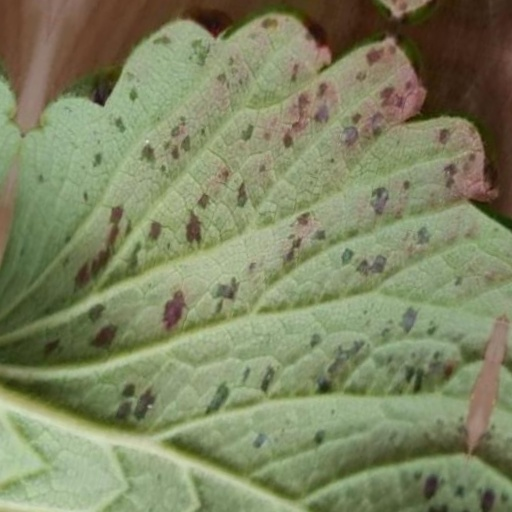Angular Leafspot: (0, 7, 503, 508)
